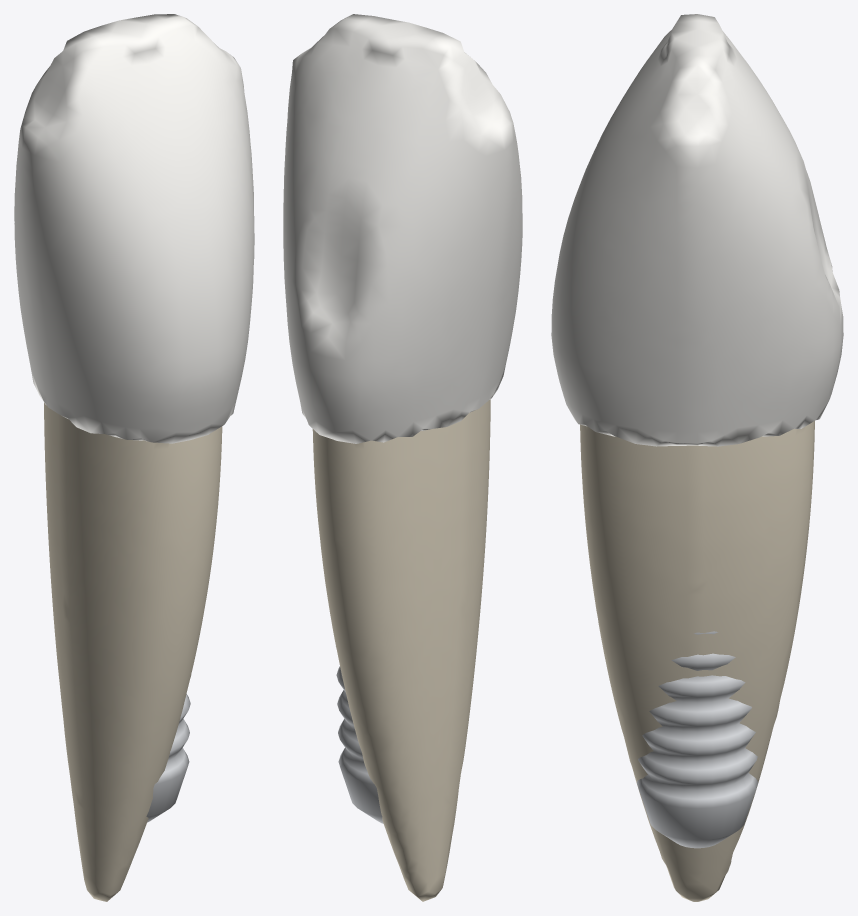
3 views of the same model, side by side, from view 1: azimuth 30°, elevation 25°; view 2: azimuth 150°, elevation 25°; view 3: azimuth 270°, elevation 25° (orthographic).
Visible parts, largest first — view 1: crown, root, implant; view 2: crown, root, implant; view 3: crown, root, implant.
Part boxes in pixels (left/top/right/bottom): crown: left=14, top=14, right=254, bottom=443; root: left=44, top=402, right=222, bottom=901; implant: left=146, top=675, right=191, bottom=822; crown: left=283, top=14, right=522, bottom=443; root: left=312, top=399, right=490, bottom=901; implant: left=336, top=666, right=383, bottom=823; crown: left=551, top=14, right=843, bottom=446; root: left=580, top=421, right=814, bottom=901; implant: left=637, top=631, right=757, bottom=848.
Size of the model in its own units: 6.19 by 23.85 by 7.19.
